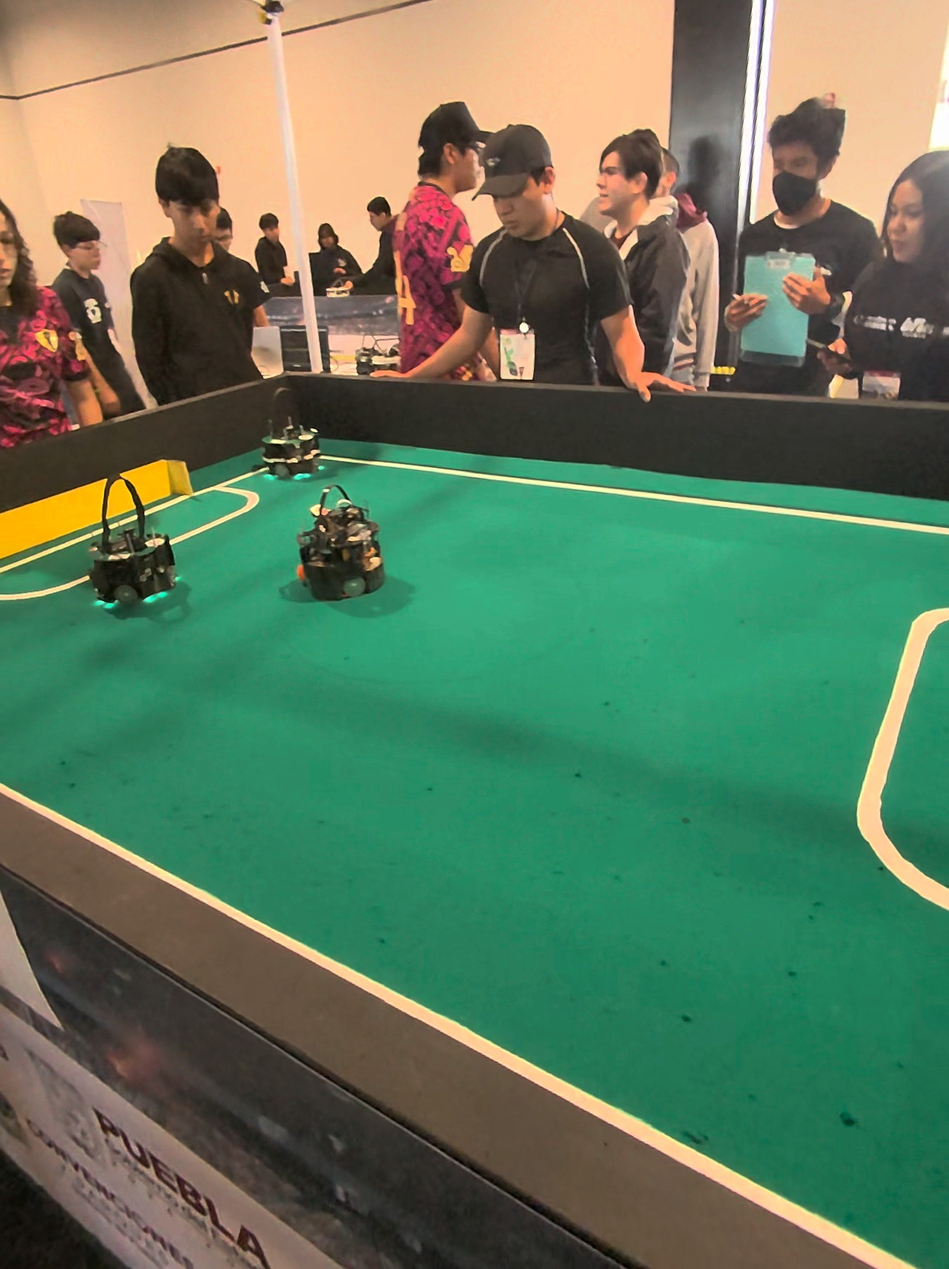Robot: (81, 471, 184, 624), (296, 489, 387, 606), (258, 376, 322, 484)
